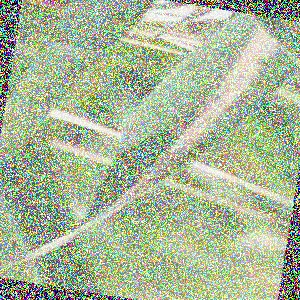Leaf_Blast: (177, 28, 281, 167)
